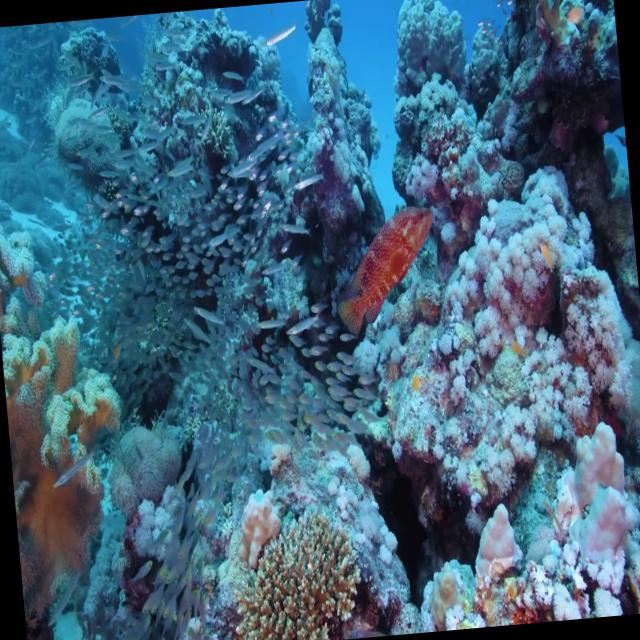fish: (326, 202, 444, 336)
